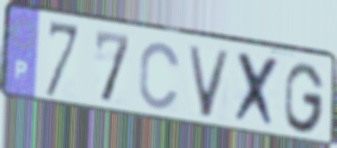7: (43, 19, 82, 101), (94, 28, 133, 107)
C: (137, 40, 183, 113)
G: (283, 60, 327, 136)
V: (185, 42, 234, 121)
X: (231, 48, 282, 133)
